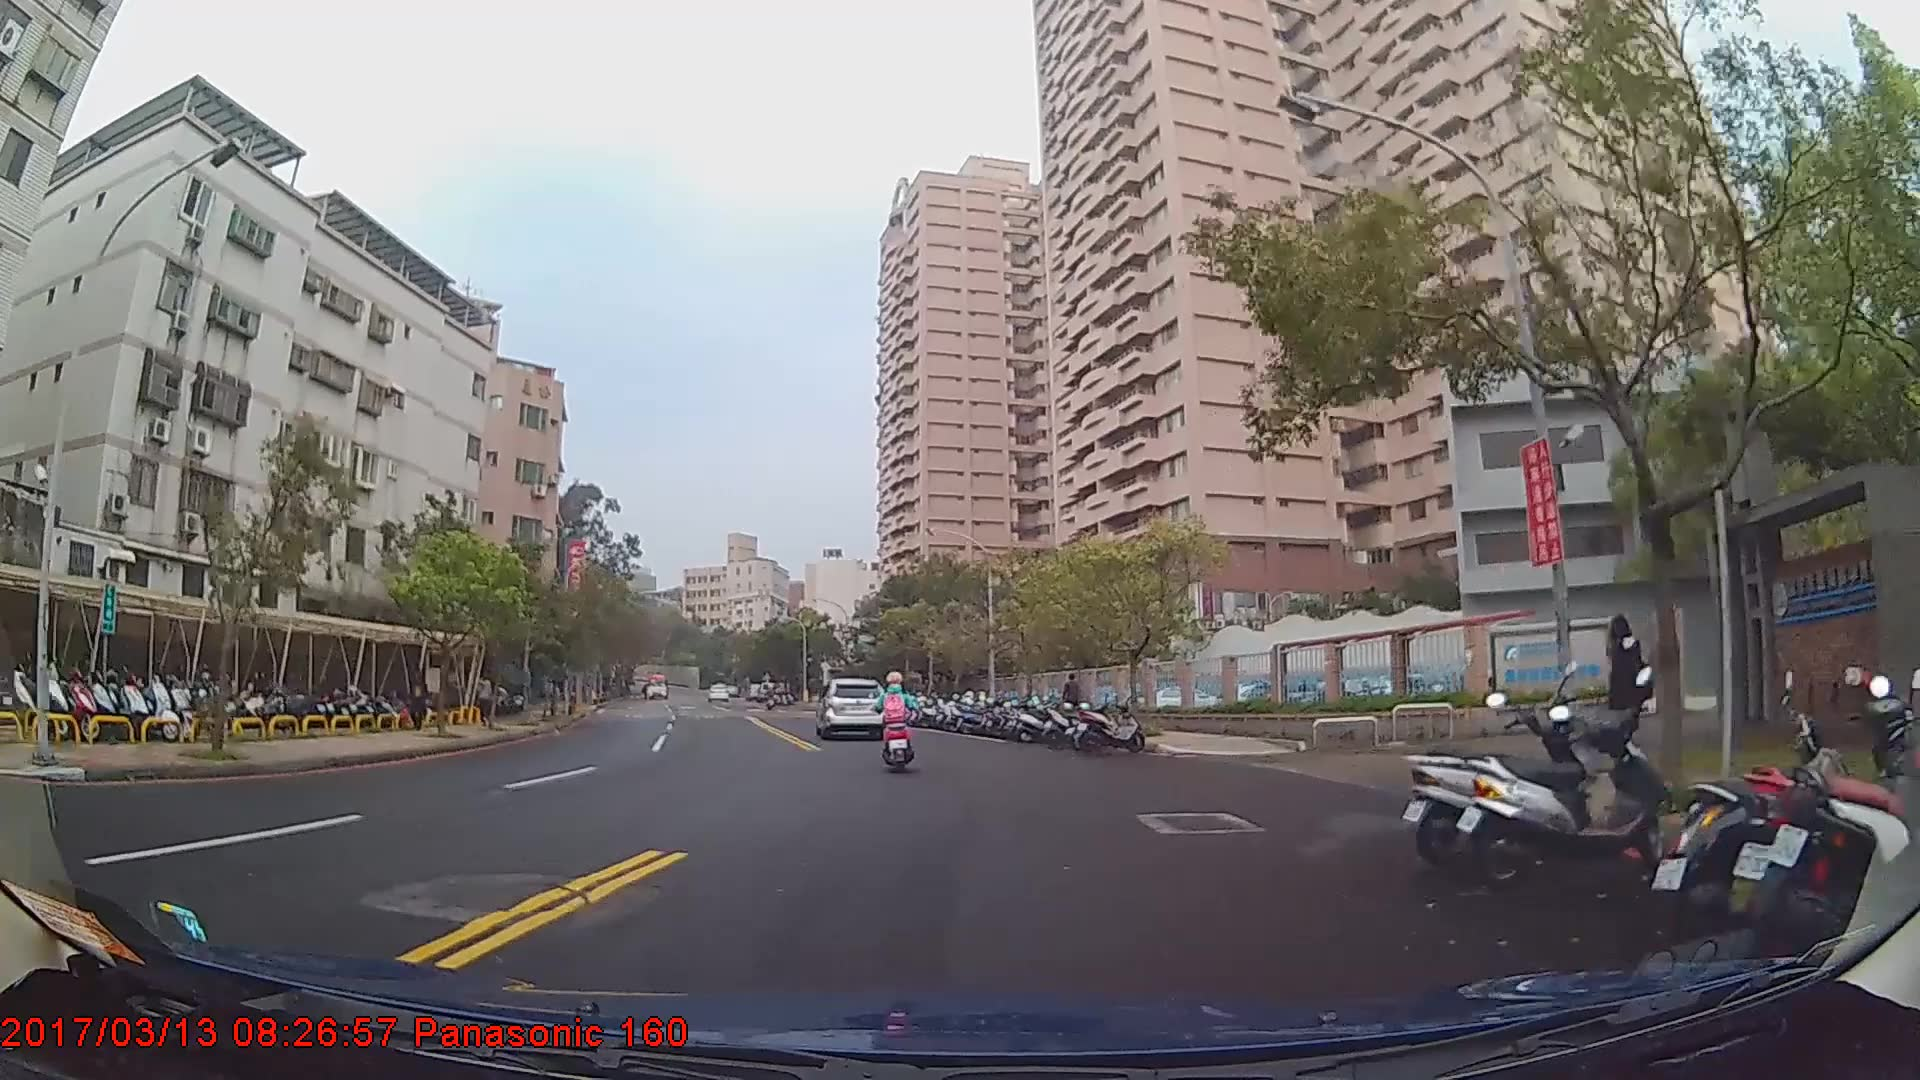pedestrian: (1597, 615, 1655, 789), (404, 669, 430, 731), (1063, 672, 1083, 729)
rider: (877, 669, 920, 767)
vehicle: (812, 673, 888, 738), (644, 669, 668, 701)
